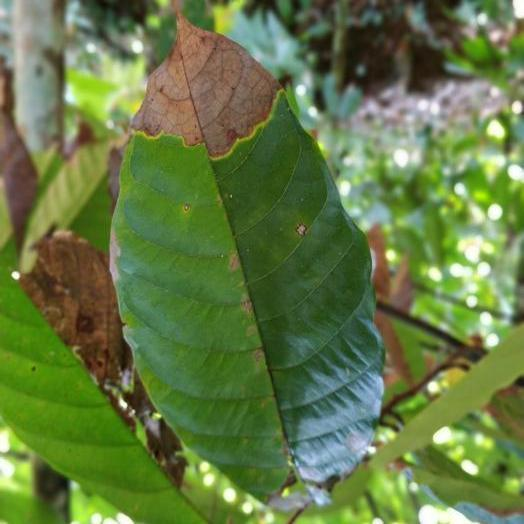Potassium: (112, 15, 383, 499)
